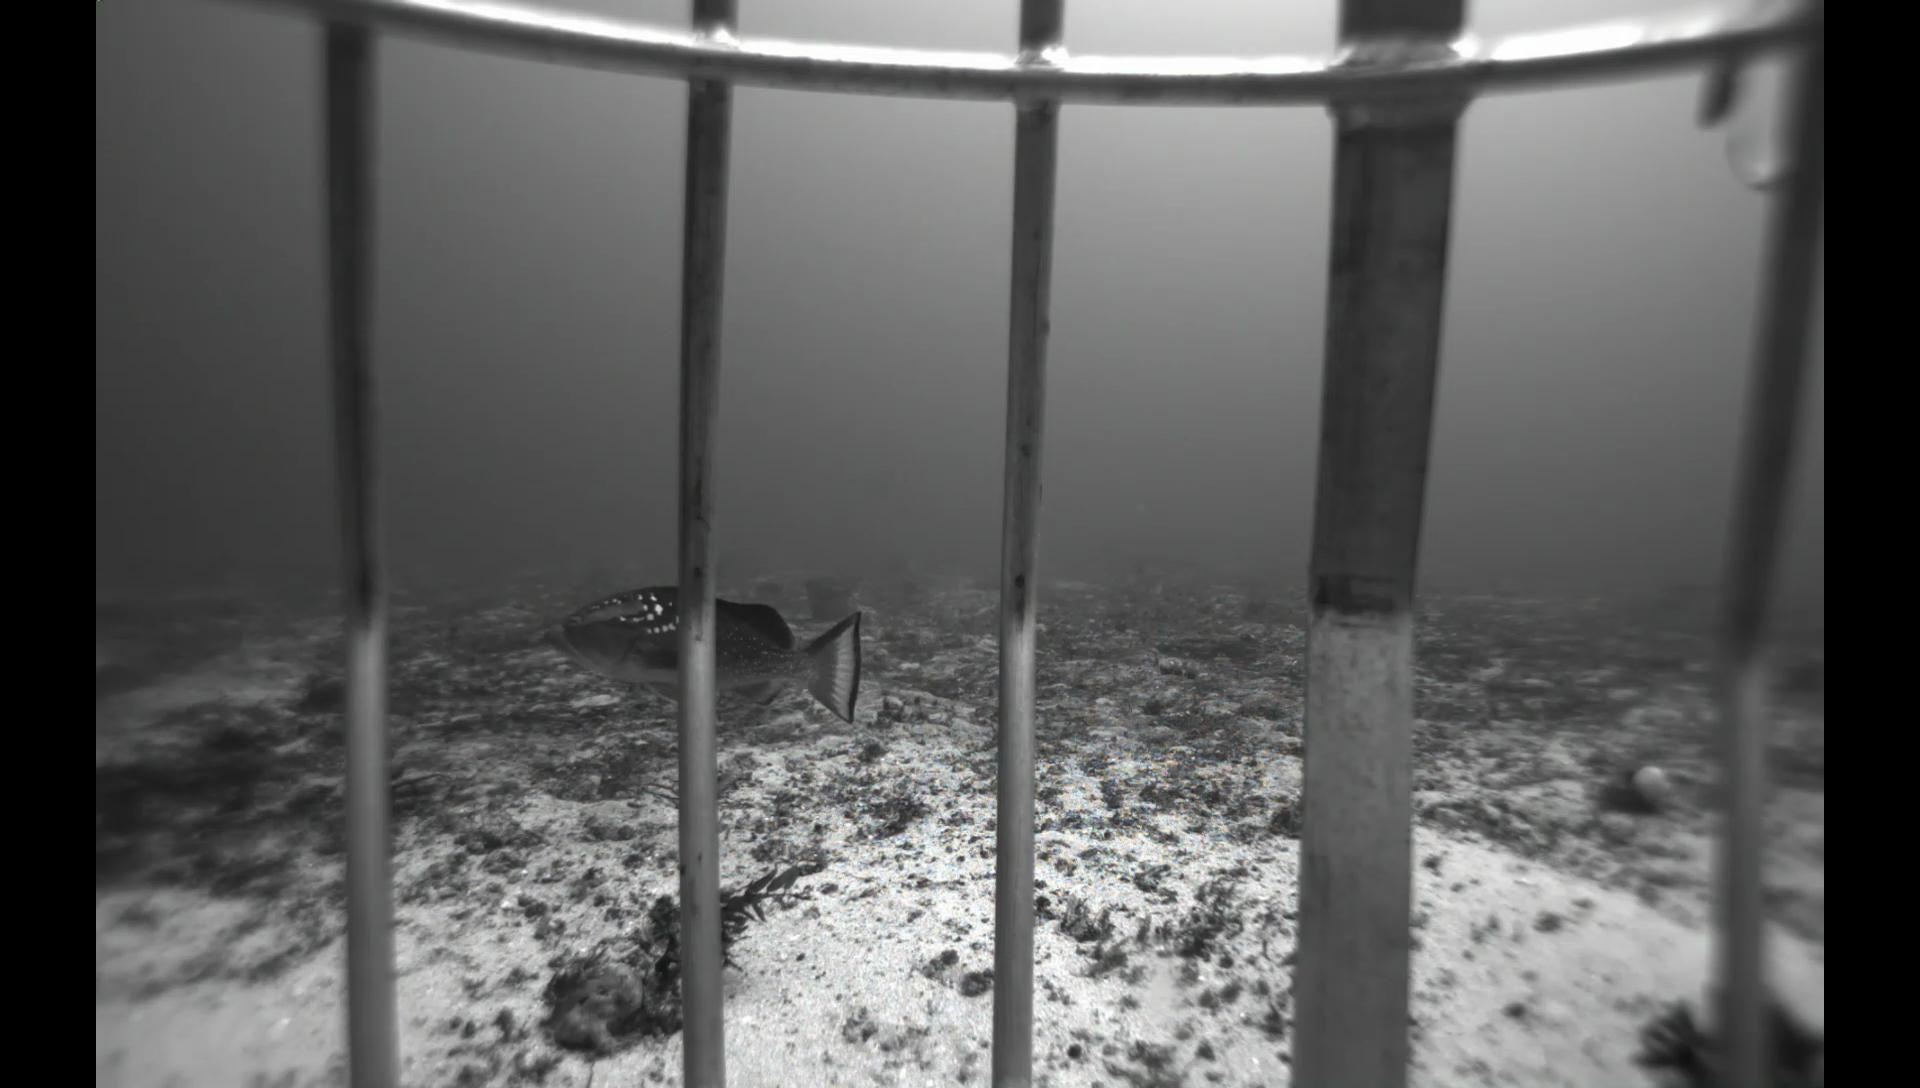CHAETODONOCELLATUS-170260307: (1120, 571, 1142, 589), (1149, 583, 1164, 597)
EPINEPHELUSMORIO-170021211: (533, 580, 873, 731)
HALICHOERESBIVITTATUS-170281202: (194, 696, 241, 727)
PRISTIGENYSALTA-170050401: (290, 675, 348, 717)
